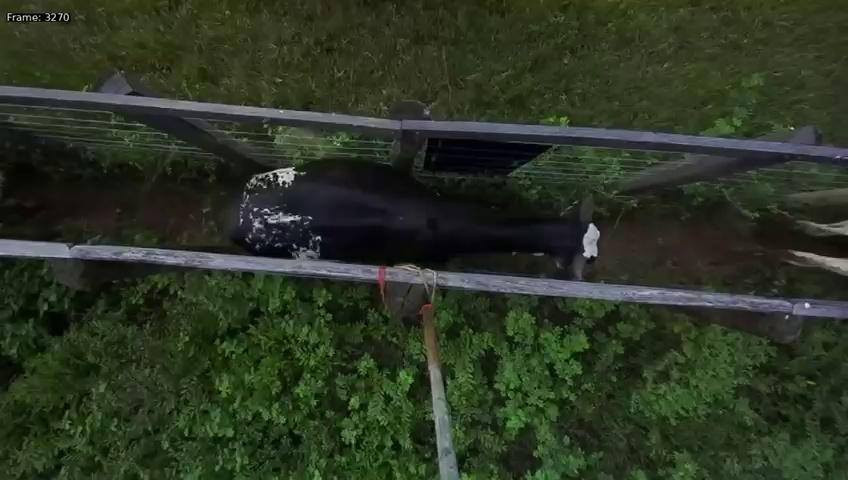cattle: (219, 150, 604, 288)
